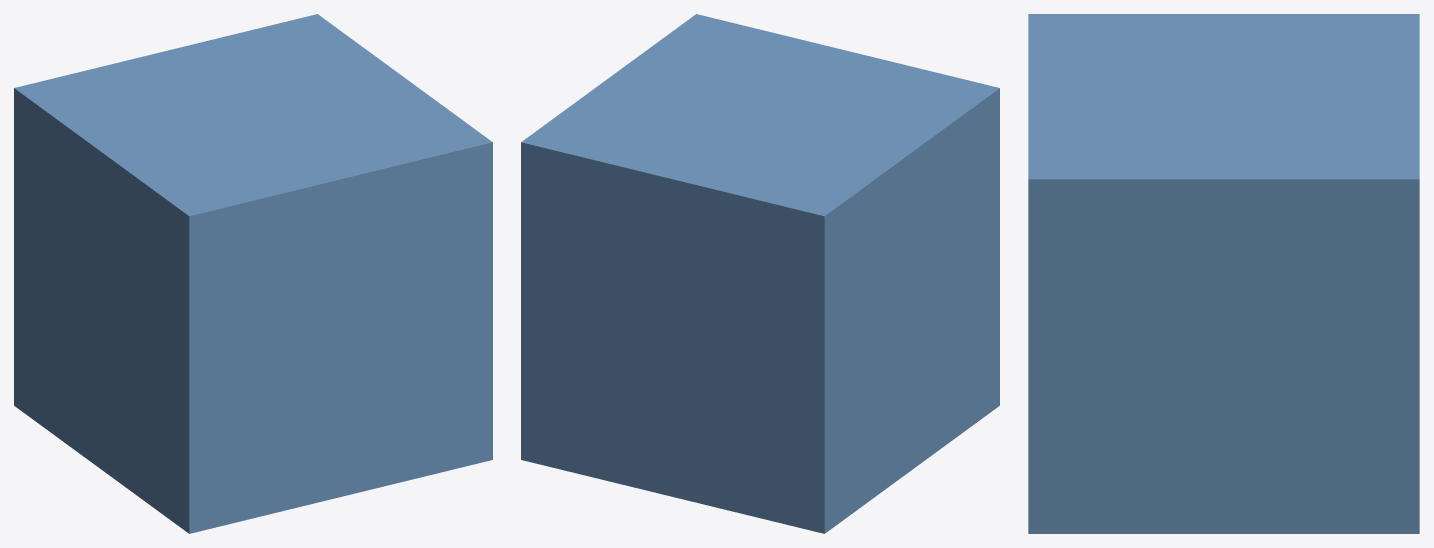
File: Spawn_Full.glb
3 views of the same model, side by side, from view 1: azimuth 30°, elevation 25°; view 2: azimuth 150°, elevation 25°; view 3: azimuth 270°, elevation 25° (orthographic). The views are drawn at different scales.
Visible parts, largest first — view 1: Spawn_Full_body; view 2: Spawn_Full_body; view 3: Spawn_Full_body.
Boxes of the visible parts, <box> form: Spawn_Full_body: <box>14,14,492,533</box>; Spawn_Full_body: <box>521,14,999,533</box>; Spawn_Full_body: <box>1028,14,1419,533</box>.
Bounding box in the file's own units: 1 × 1 × 1.
